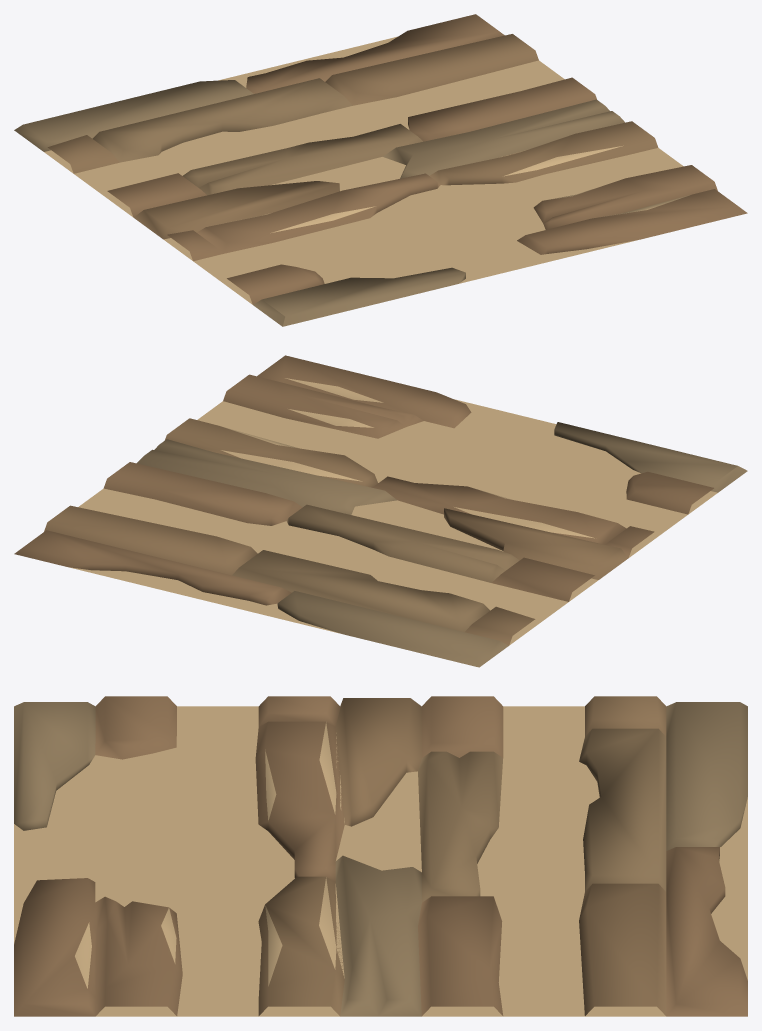
The model's file is rpgpp_av_floor_01f_3x3.gltf.
3 views of the same model, one above another, from view 1: azimuth 30°, elevation 25°; view 2: azimuth 150°, elevation 25°; view 3: azimuth 270°, elevation 25° (orthographic). The views are drawn at different scales.
Visible parts, largest first — view 1: rpgpp_av_floor_01f_3x3; view 2: rpgpp_av_floor_01f_3x3; view 3: rpgpp_av_floor_01f_3x3.
Boxes of the visible parts, bbox=[...] form: rpgpp_av_floor_01f_3x3: bbox=[14, 14, 747, 326]; rpgpp_av_floor_01f_3x3: bbox=[14, 355, 747, 667]; rpgpp_av_floor_01f_3x3: bbox=[14, 696, 747, 1016].
Bounding box in the file's own units: 0.03 × 0.000584 × 0.03.
Materials: 1 (1 with a texture image).
